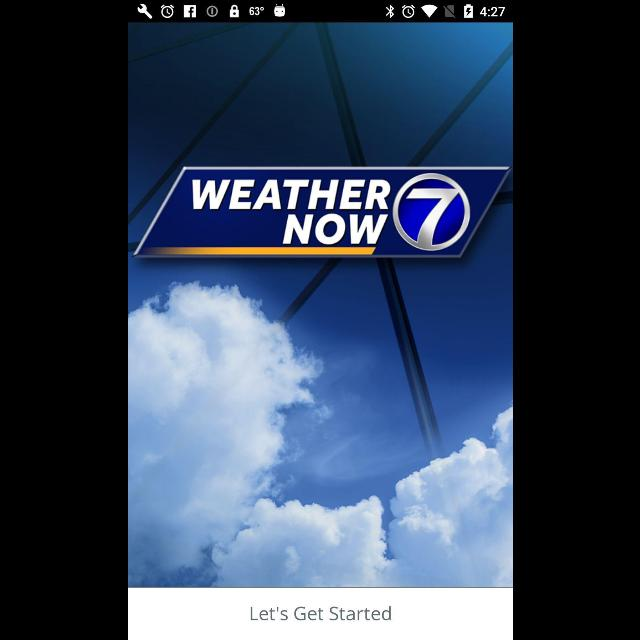image: (128, 23, 512, 587)
textbutton: (128, 588, 512, 640)
uppertaskbar: (128, 1, 512, 23)
